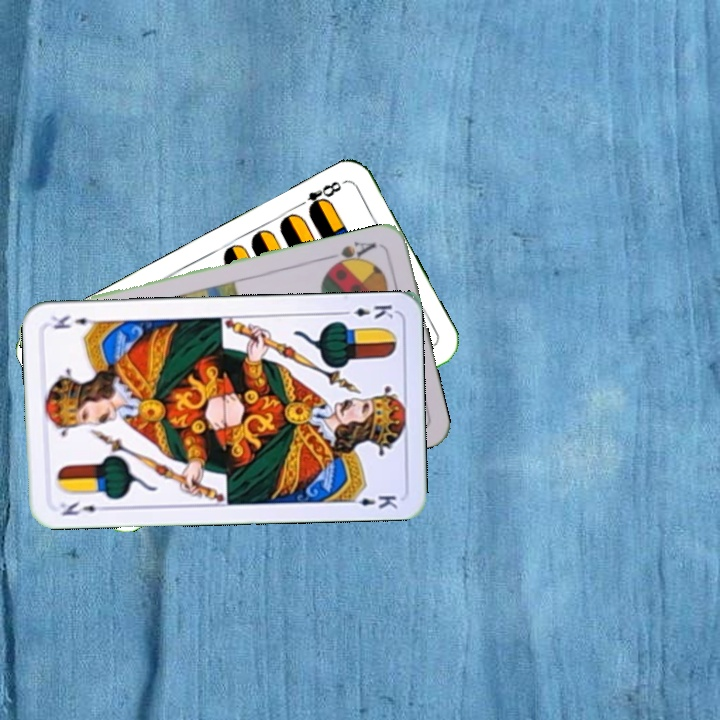E8: (293, 177, 344, 216)
EK: (337, 300, 396, 321), (56, 496, 111, 518)
SA: (323, 237, 378, 271)
